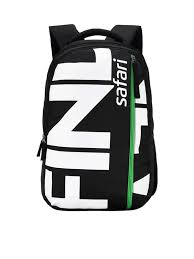backpack: (36, 23, 158, 211)
